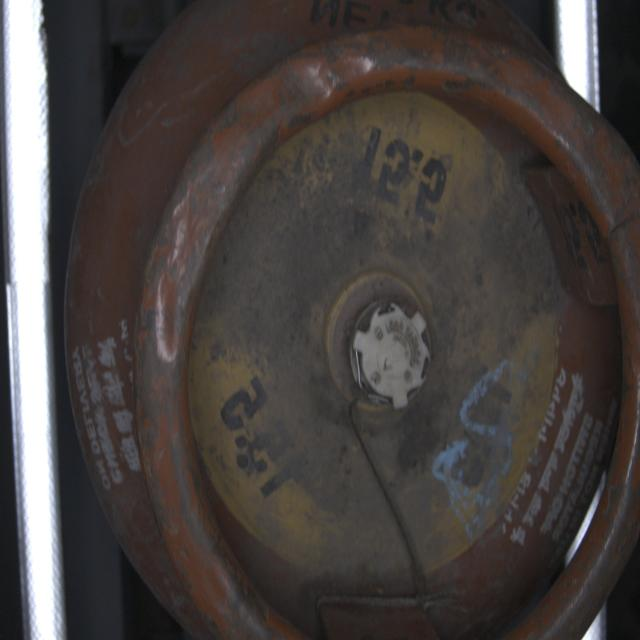Cap: (347, 299, 436, 416)
